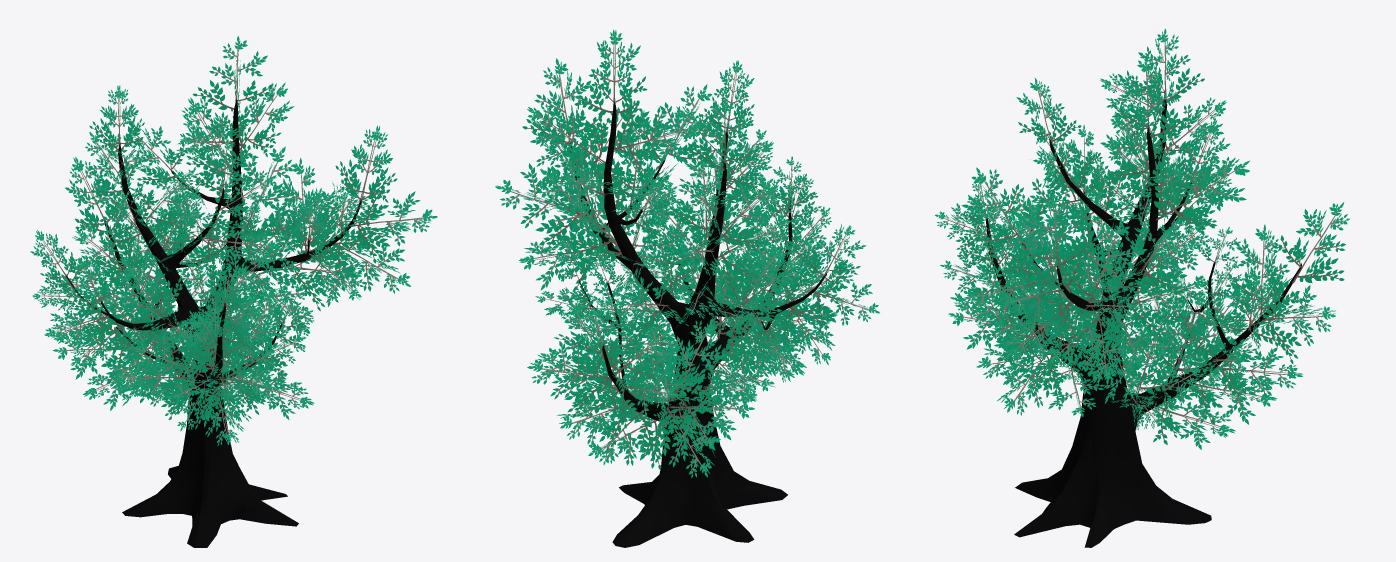
Rendered from Jungle_BigTree.fbx.
3 views of the same model, side by side, from view 1: azimuth 30°, elevation 25°; view 2: azimuth 150°, elevation 25°; view 3: azimuth 270°, elevation 25° (orthographic). The views are drawn at different scales.
Visible parts, largest first — view 1: Jungle_BigTree_LOD0; view 2: Jungle_BigTree_LOD0; view 3: Jungle_BigTree_LOD0.
Boxes of the visible parts, <box> form: Jungle_BigTree_LOD0: <box>30,36,437,547</box>; Jungle_BigTree_LOD0: <box>495,29,879,547</box>; Jungle_BigTree_LOD0: <box>935,28,1349,547</box>.
Size of the model in its own units: 50.23 by 57.59 by 49.72.
